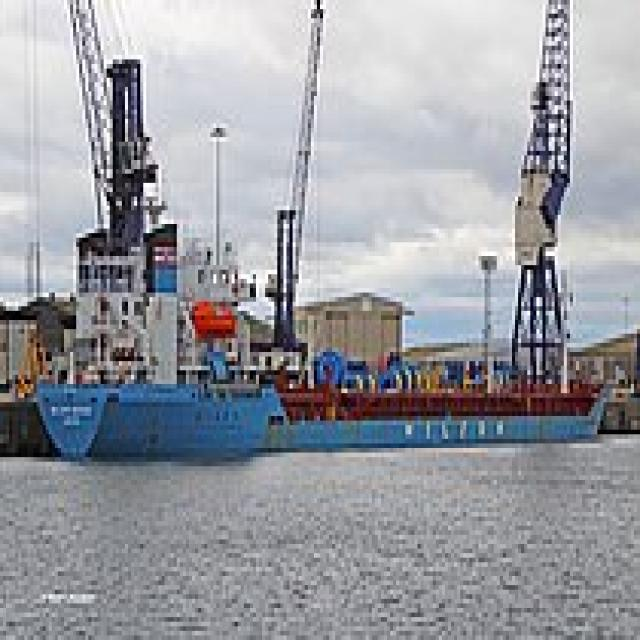Cargo: (31, 233, 610, 457)
